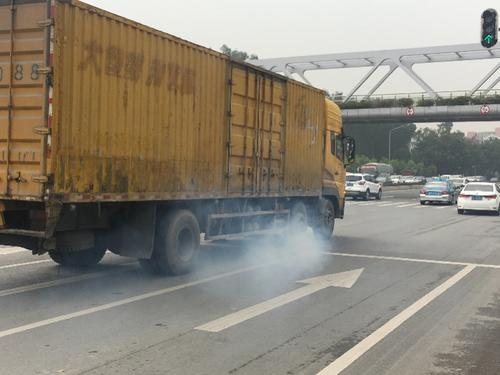smoke: (210, 219, 331, 289)
